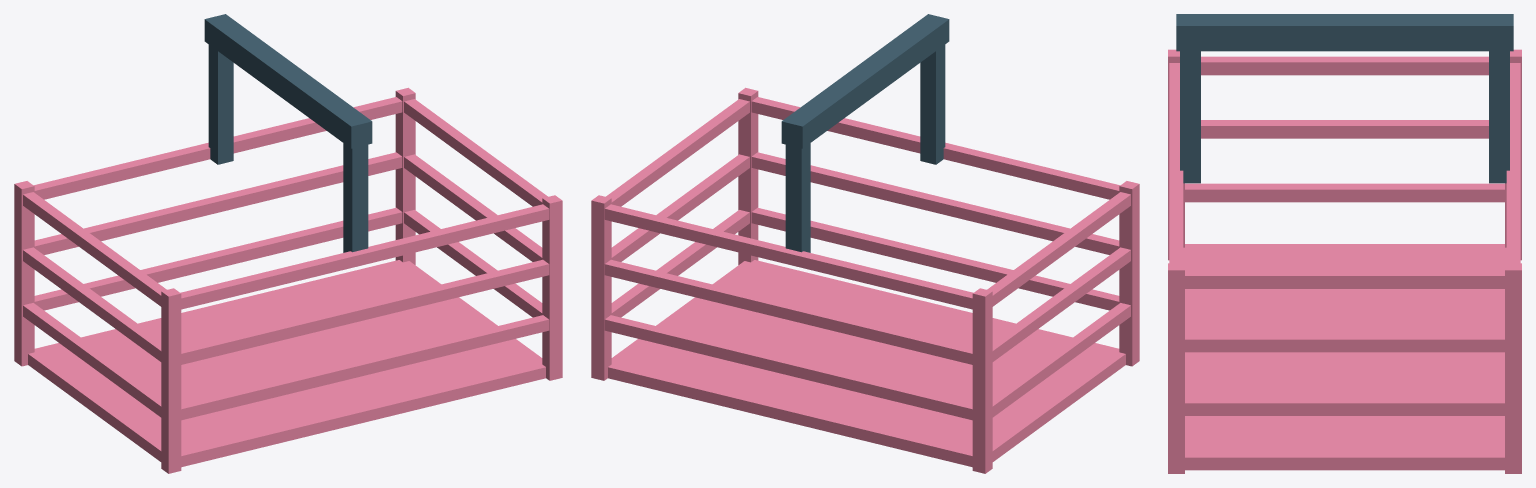
The model's file is ShopBasket.fbx.
The picture shows the model from 3 angles, left to right: view 1: azimuth 30°, elevation 25°; view 2: azimuth 150°, elevation 25°; view 3: azimuth 270°, elevation 25°; orthographic projection. The views are drawn at different scales.
Visible parts, largest first — view 1: ShopBasket; view 2: ShopBasket; view 3: ShopBasket.
Part boxes in pixels (x1,y1,x2,y2): ShopBasket: [14, 14, 562, 473]; ShopBasket: [591, 14, 1139, 473]; ShopBasket: [1168, 14, 1521, 473].
Bounding box in the file's own units: 0.372 × 0.27 × 0.252.
